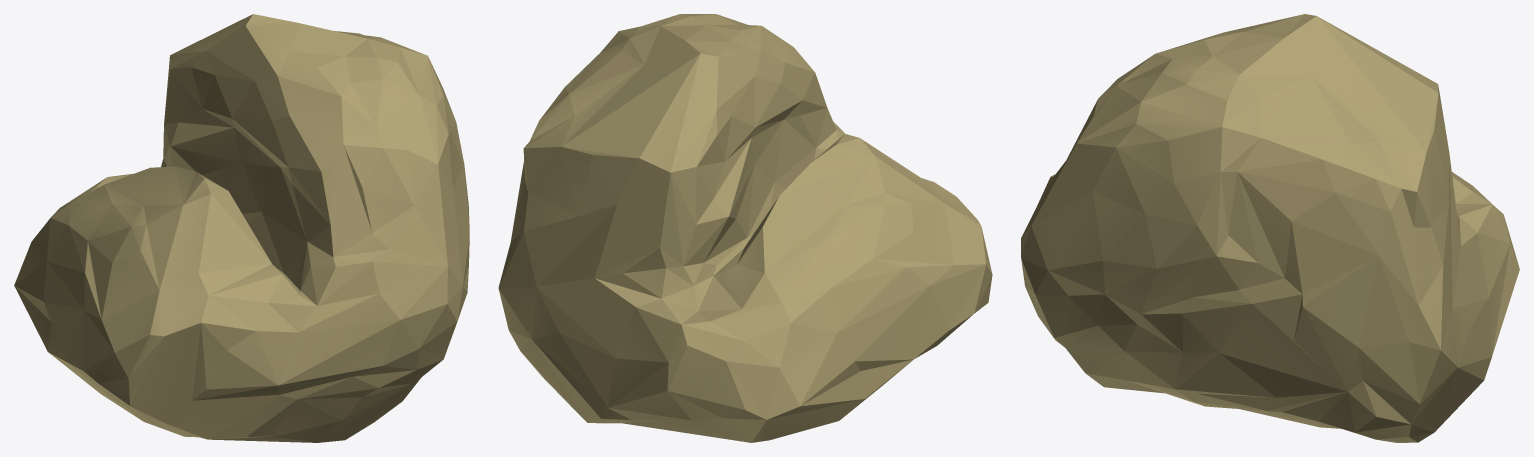
File: SM_rock_41.fbx
The picture shows the model from 3 angles, left to right: view 1: azimuth 30°, elevation 25°; view 2: azimuth 150°, elevation 25°; view 3: azimuth 270°, elevation 25°; orthographic projection. The views are drawn at different scales.
Visible parts, largest first — view 1: rock_41; view 2: rock_41; view 3: rock_41.
Boxes of the visible parts, left/top/right/bottom form: rock_41: left=14, top=14, right=469, bottom=442; rock_41: left=498, top=14, right=992, bottom=442; rock_41: left=1021, top=14, right=1519, bottom=442.
Size of the model in its own units: 136 by 126 by 145.
